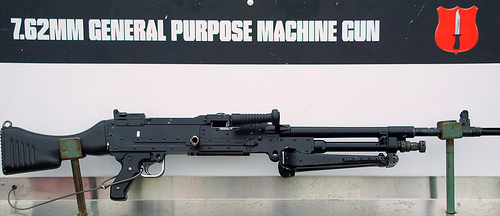rifle: (5, 103, 490, 206)
